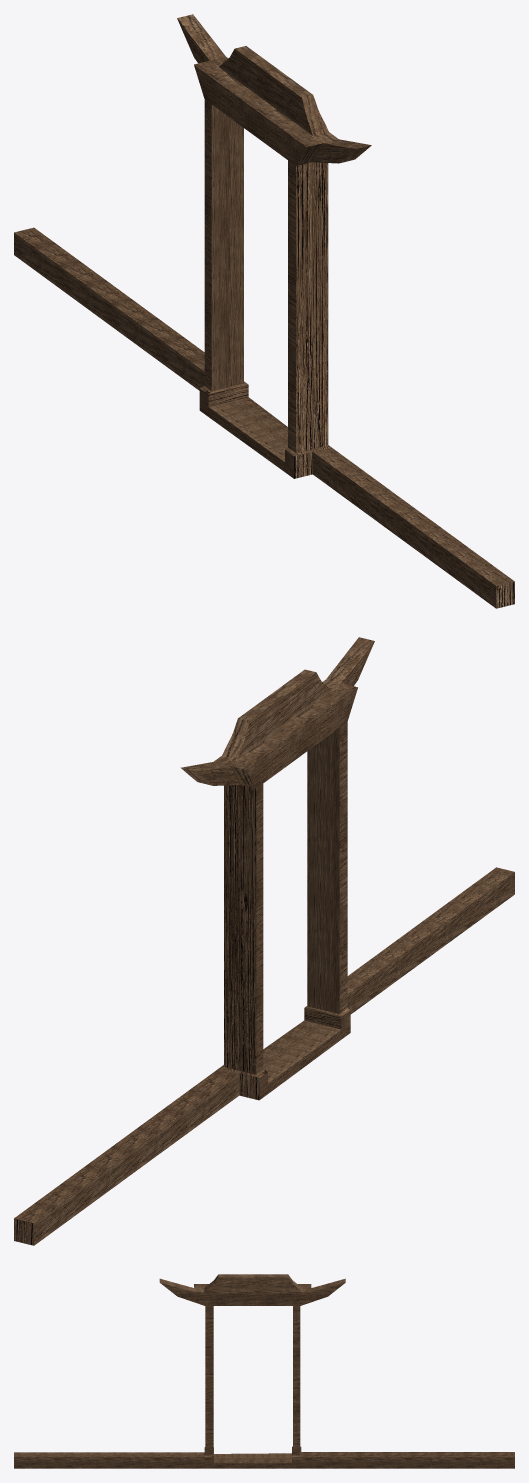
The model's file is DverPetl.fbx.
The picture shows the model from 3 angles, top to bottom: view 1: azimuth 30°, elevation 25°; view 2: azimuth 150°, elevation 25°; view 3: azimuth 270°, elevation 25°; orthographic projection. The views are drawn at different scales.
Parts seen in each view (by area): view 1: Castle- Exit-KarDoor'; view 2: Castle- Exit-KarDoor'; view 3: Castle- Exit-KarDoor'.
Boxes of the visible parts, x1,y1,x2,y2 form: Castle- Exit-KarDoor': [14, 14, 514, 608]; Castle- Exit-KarDoor': [14, 637, 514, 1245]; Castle- Exit-KarDoor': [14, 1274, 514, 1468].
Bounding box in the file's own units: 10.11 × 88.05 × 210.
